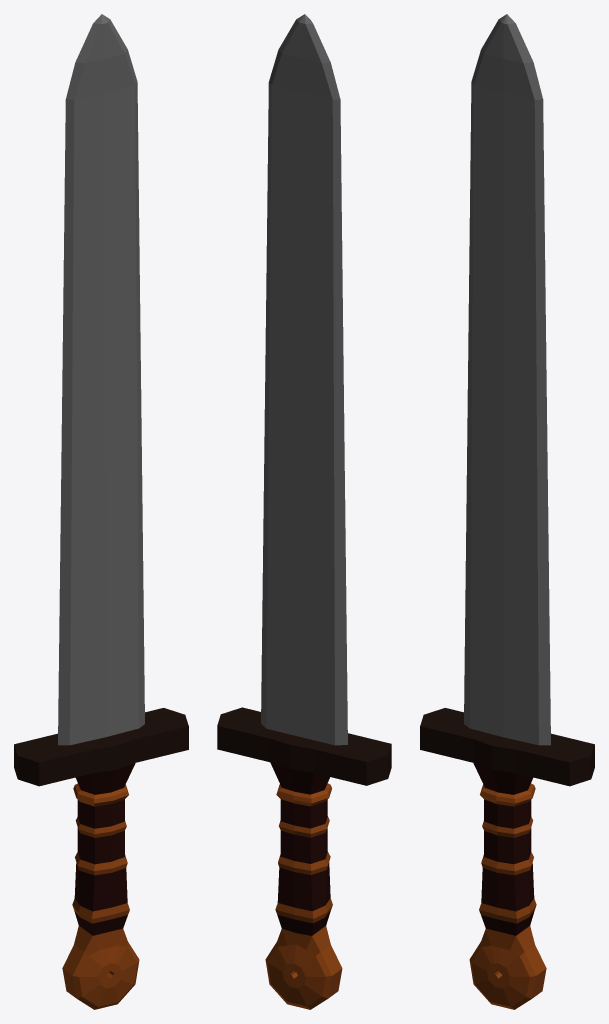
File: Sword.glb
3 renders of one model, left to right at view 1: azimuth 30°, elevation 25°; view 2: azimuth 150°, elevation 25°; view 3: azimuth 330°, elevation 25°, orthographic.
Parts seen in each view (by area): view 1: Sword_Cylinder; view 2: Sword_Cylinder; view 3: Sword_Cylinder.
Part boxes in pixels (<box>): Sword_Cylinder: <box>14,14,188,1009</box>; Sword_Cylinder: <box>217,14,391,1009</box>; Sword_Cylinder: <box>420,14,594,1009</box>.
Bounding box in the file's own units: 0.7711 × 4.35 × 0.2286.
